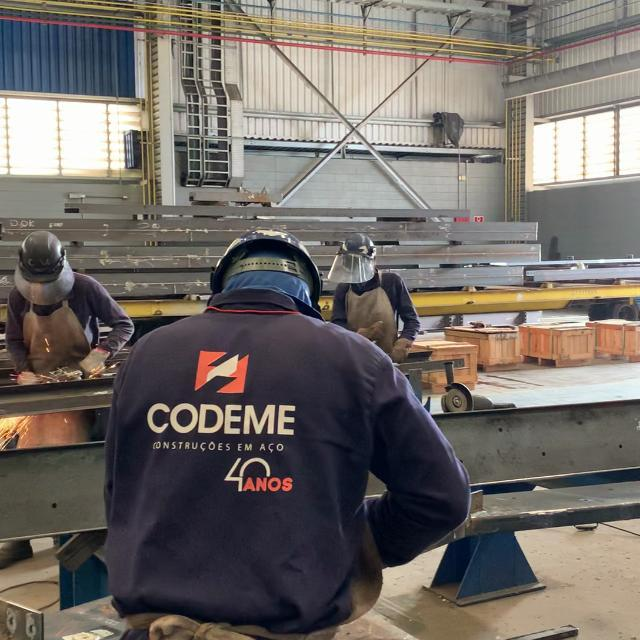eye-glass: (13, 265, 74, 307), (325, 252, 379, 283)
face-shield: (79, 347, 110, 380), (389, 338, 414, 362)
glove: (213, 227, 323, 307), (19, 230, 65, 285), (338, 234, 378, 260)
mask: (101, 229, 472, 633), (6, 228, 135, 385), (327, 229, 418, 367)
